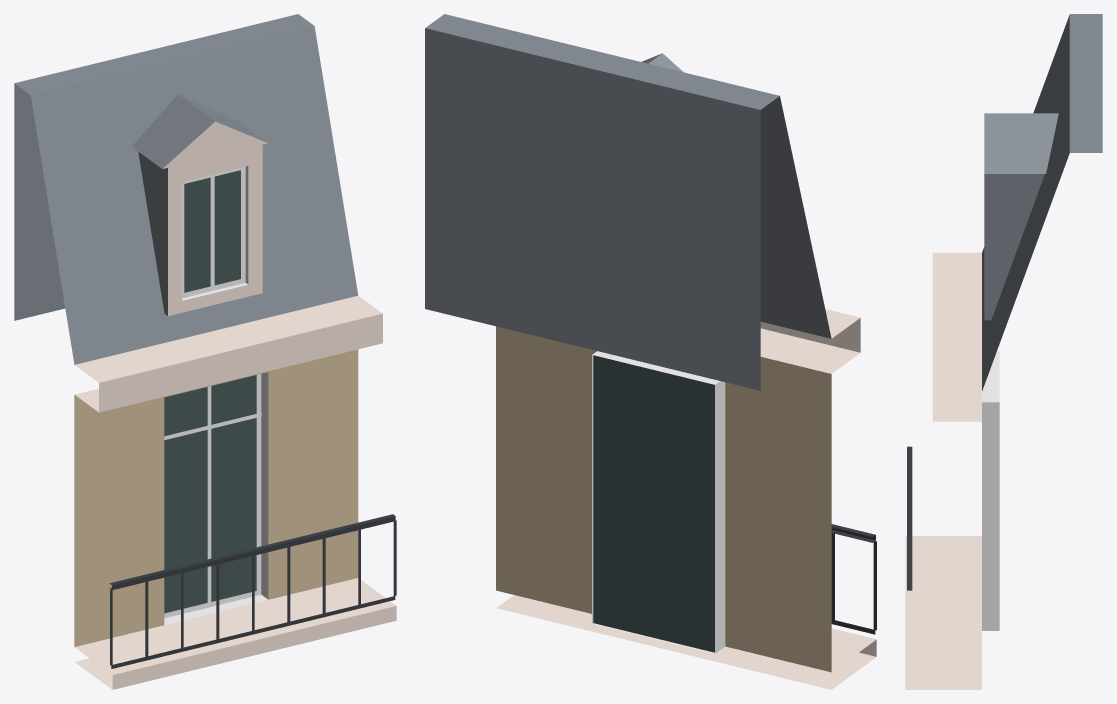
The model's file is top-w1.fbx.
3 renders of one model, left to right at view 1: azimuth 30°, elevation 25°; view 2: azimuth 150°, elevation 25°; view 3: azimuth 270°, elevation 25°, orthographic. The views are drawn at different scales.
Parts seen in each view (by area): view 1: a2006/500/top-w1; view 2: a2006/500/top-w1; view 3: a2006/500/top-w1.
Part boxes in pixels (<box>): a2006/500/top-w1: <box>14,14,396,689</box>; a2006/500/top-w1: <box>425,14,876,689</box>; a2006/500/top-w1: <box>905,14,1102,689</box>.
Size of the model in its own units: 3.03 by 5.4 by 1.8.
